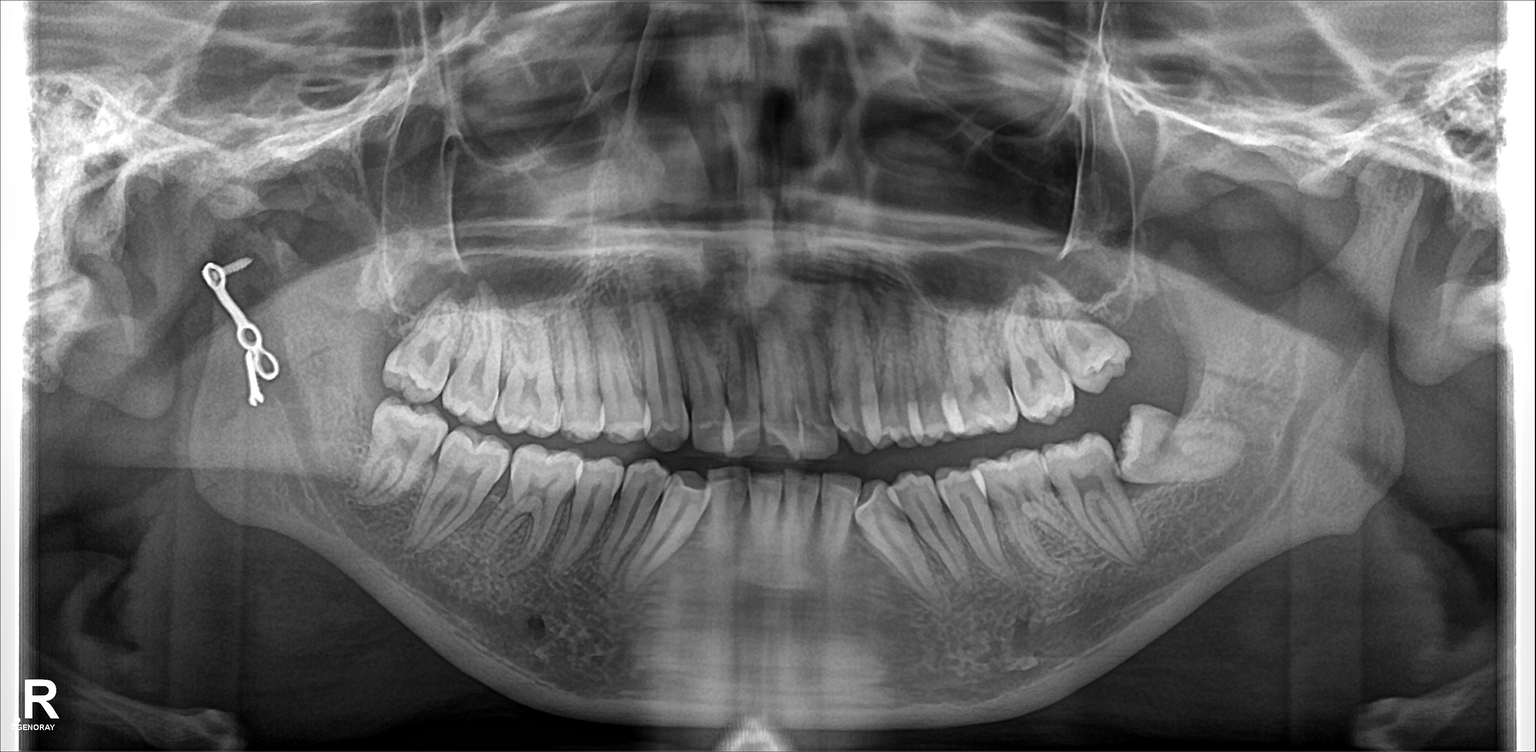Impacted Third Molar: (1125, 396, 1243, 478)
Missing Tooth: (1110, 262, 1175, 364)
